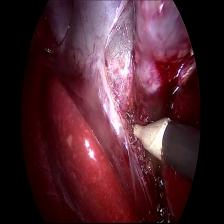Hook: (124, 101, 171, 167)
